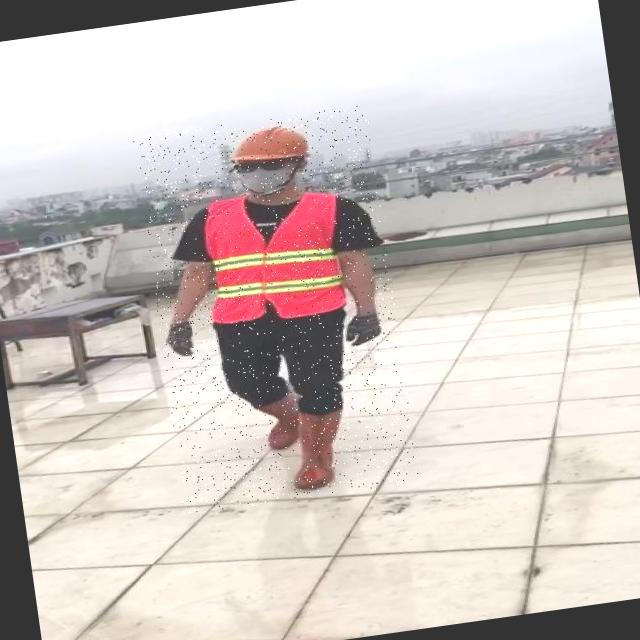boots: (283, 406, 357, 494), (246, 389, 308, 456)
helmet: (227, 120, 311, 167)
vest: (196, 188, 356, 330)
